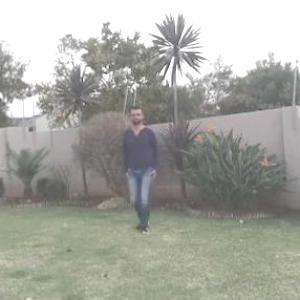follow: (124, 107, 157, 224)
